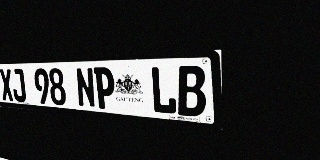8: (48, 68, 66, 106)
9: (33, 68, 51, 104)
B: (177, 65, 206, 117)
J: (11, 69, 26, 102)
L: (150, 66, 177, 115)
N: (75, 67, 96, 108)
P: (94, 67, 116, 110)
X: (0, 69, 14, 101)
